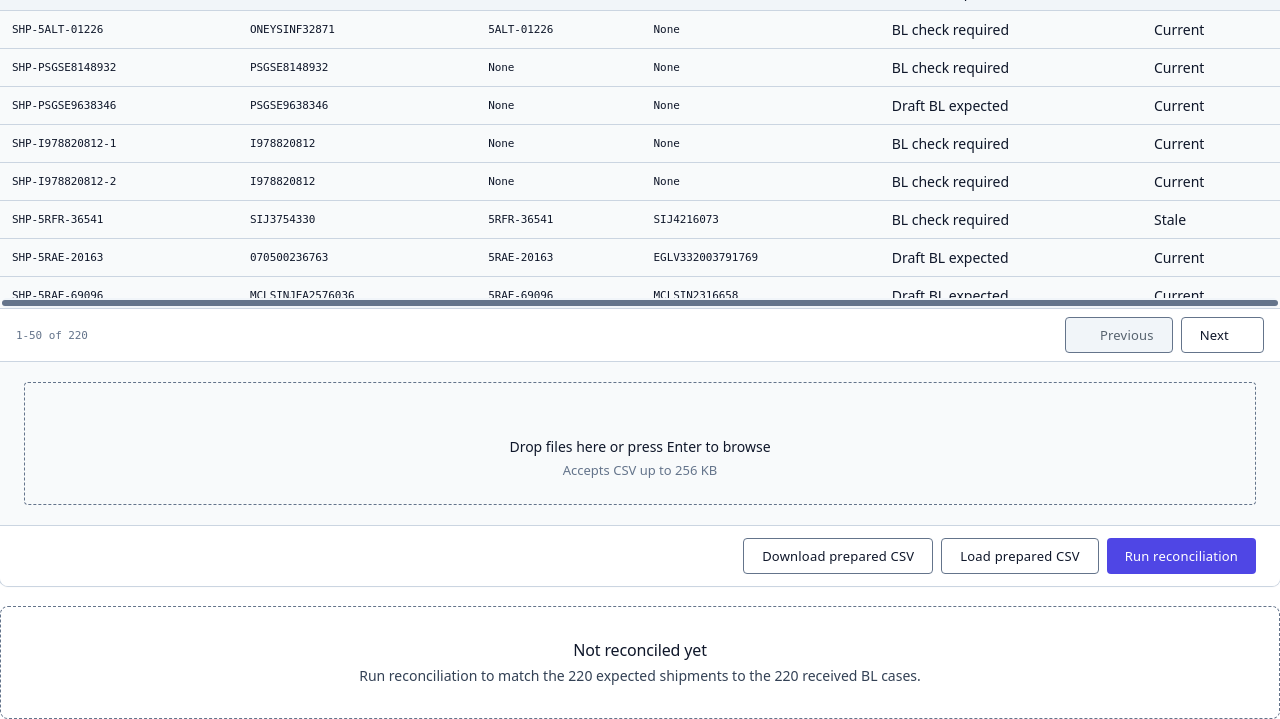
Test: ReconciliationView › runs reconciliation into the outcomes, the missing case and the run id
This screenshot has width=1280, height=719.
(page scrolled)
Click the button "Run reconciliation": [1181, 556] box [1107,538,1256,574]
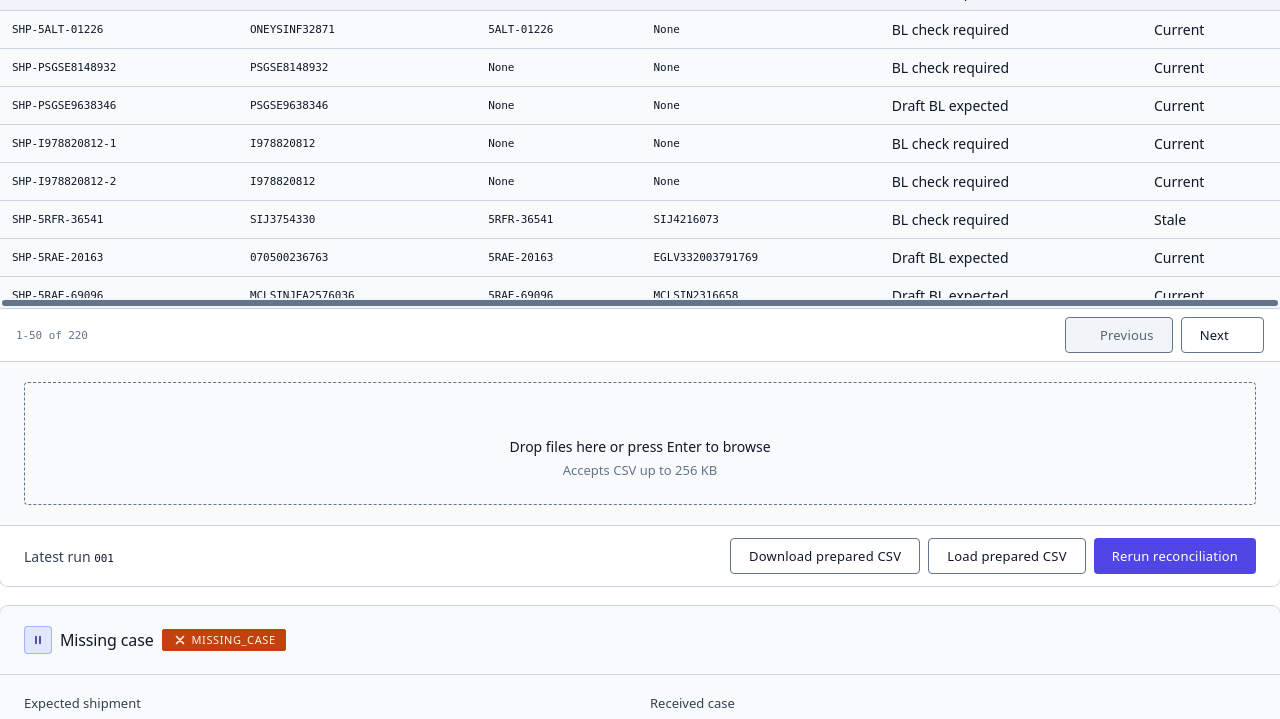
Expected: the text "Not reconciled yet" is gone
Expected: the text "001" is shown, [94,552,114,565]
Expected: the button "Rerun reconciliation" is shown, [1094,538,1256,574]
